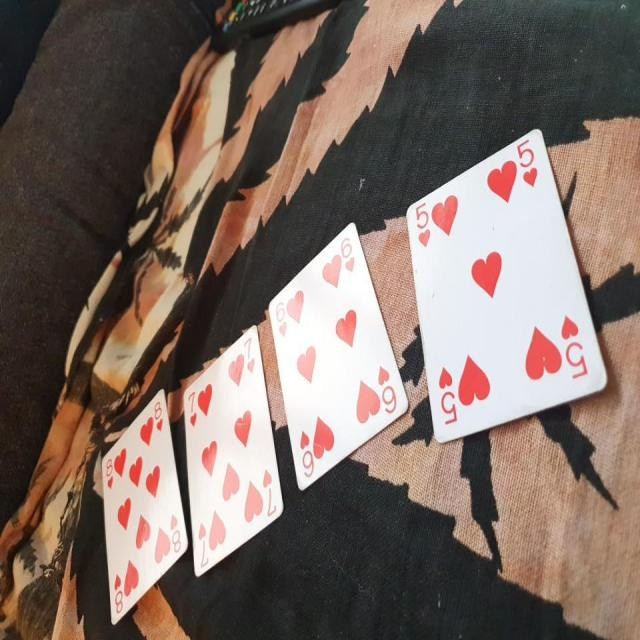5 Hearts: (404, 122, 614, 453)
6 Hearts: (266, 213, 413, 500)
7 Hearts: (185, 320, 290, 580)
8 Hearts: (93, 391, 195, 628)
